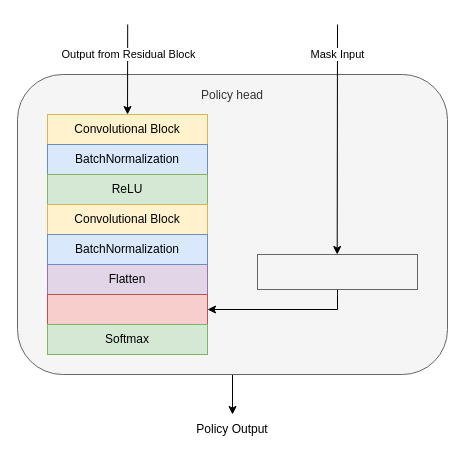
This 465x462 diagram has some shape labels left out. The box of each missing label's shape, as (x1, y1, x2, y2) in pixels:
Add: (46, 294, 208, 324)
Process Mask: (256, 254, 418, 290)
